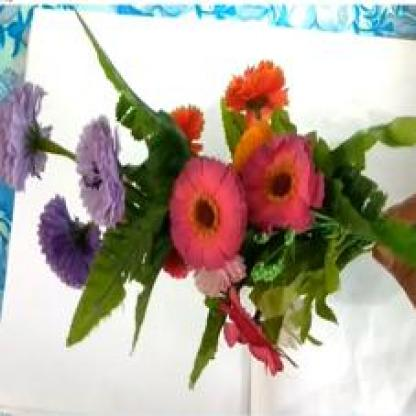flower: (13, 31, 414, 361)
